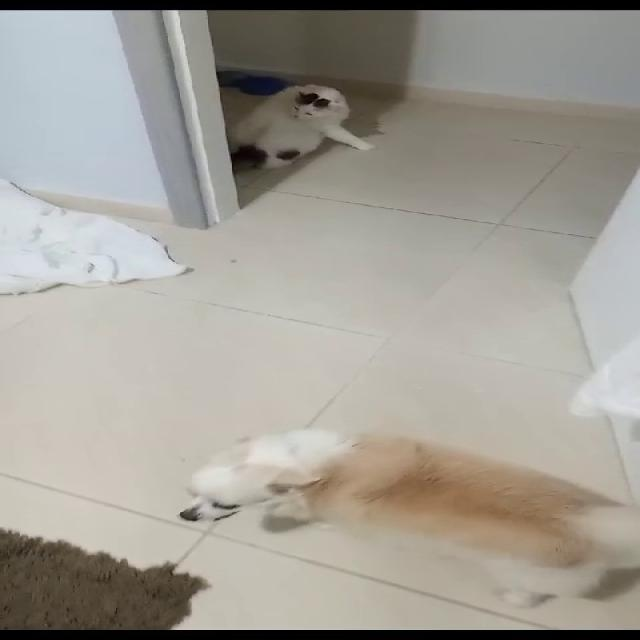Simba: (205, 76, 376, 167)
Theo: (166, 414, 638, 622)
